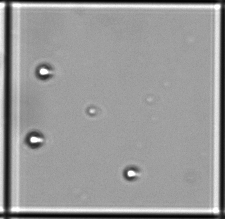Living Cell: (25, 131, 45, 148), (36, 64, 51, 79), (125, 166, 139, 181)
